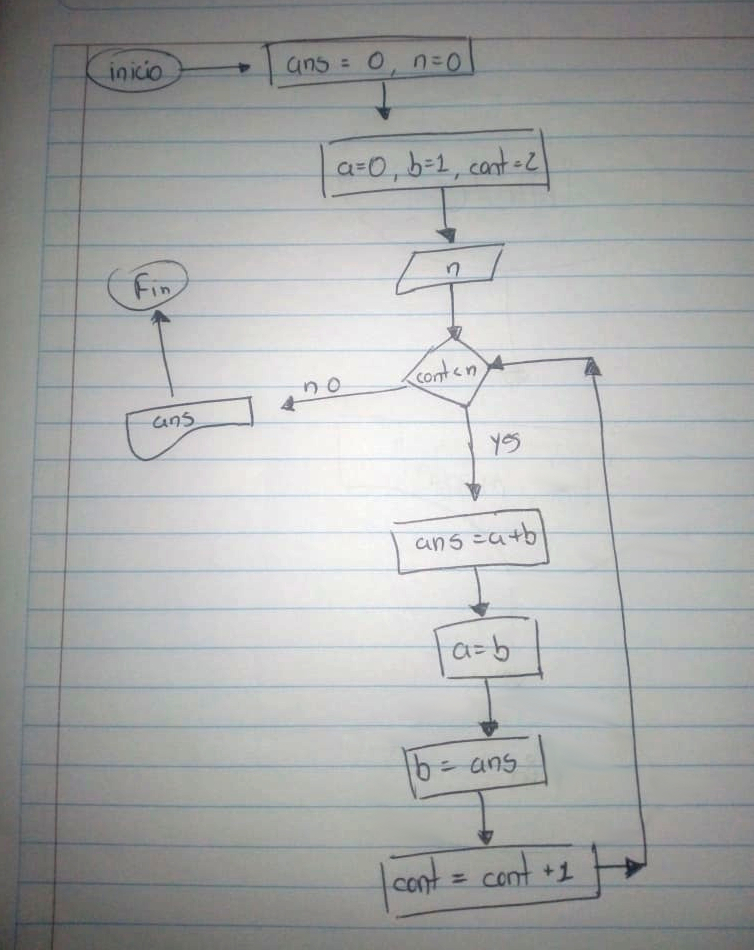arrow_line_down: (450, 401, 488, 509), (427, 185, 464, 249), (475, 674, 508, 741), (461, 562, 497, 619), (467, 788, 495, 851), (371, 78, 401, 132), (440, 282, 467, 341)
arrow_line_left: (268, 369, 414, 419), (488, 347, 593, 381)
arrow_line_right: (180, 55, 258, 81), (595, 851, 647, 882)
arrow_line_up: (583, 348, 670, 869), (140, 309, 188, 408)
decision: (403, 329, 505, 411)
print: (113, 392, 267, 465)
process: (367, 839, 608, 921), (310, 122, 561, 198), (375, 505, 561, 577), (263, 32, 484, 92), (394, 732, 563, 805), (425, 611, 557, 682)
scan: (385, 241, 515, 298)
start_end: (95, 255, 197, 317), (83, 42, 190, 99)
